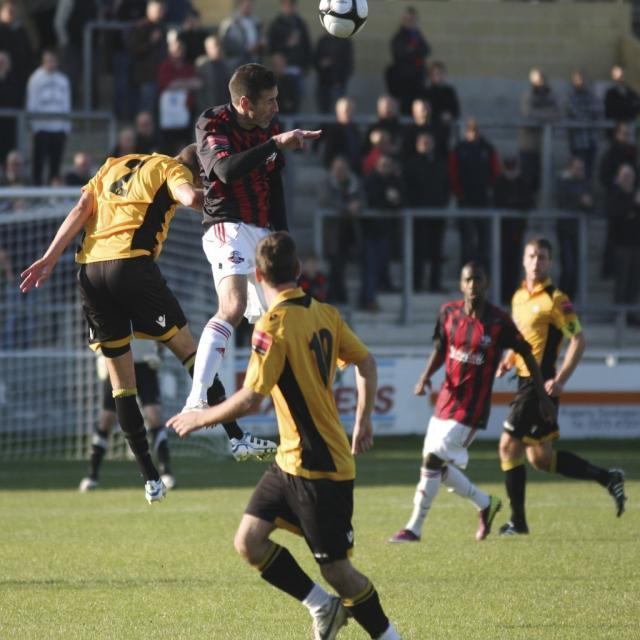football: (313, 0, 375, 39)
